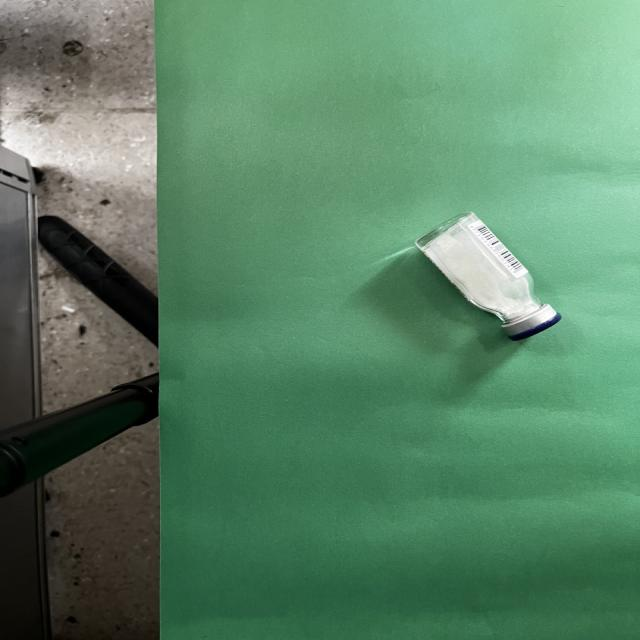Vials: (415, 213, 560, 340)
